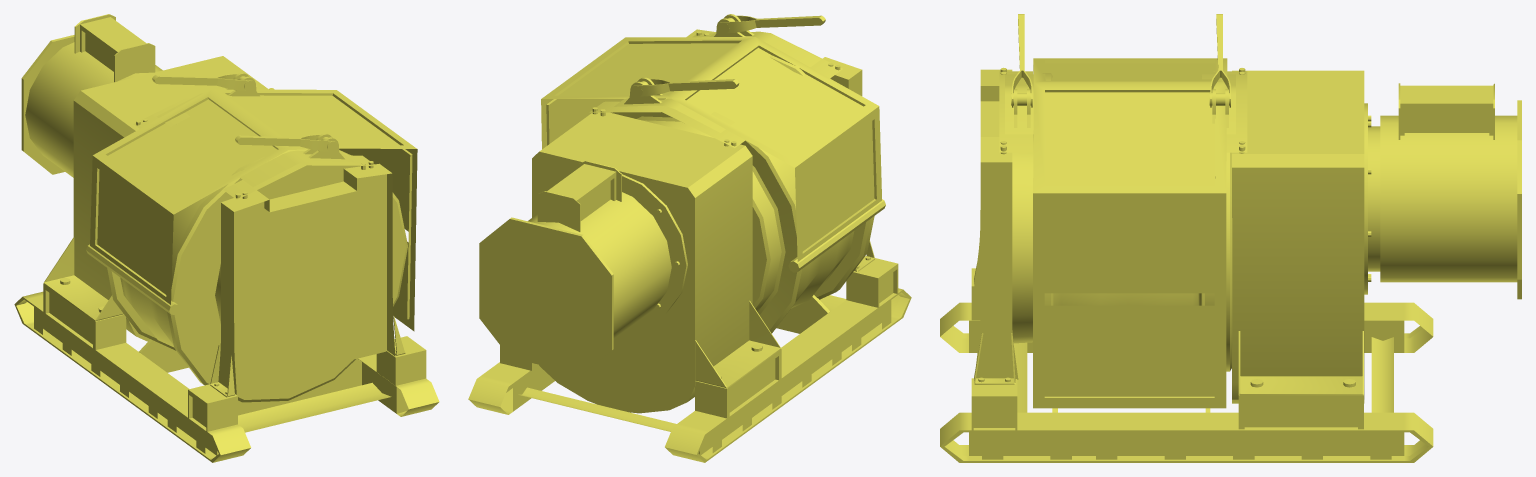
The model's file is Mono Winch.fbx.
3 views of the same model, side by side, from view 1: azimuth 30°, elevation 25°; view 2: azimuth 150°, elevation 25°; view 3: azimuth 270°, elevation 25° (orthographic). The views are drawn at different scales.
Visible parts, largest first — view 1: Cube.038, Cube.001; view 2: Cube.038, Cube.001; view 3: Cube.038, Cube.001.
Boxes of the visible parts, box(x1,y1,x2,y2) form: Cube.038: box(14, 14, 439, 462); Cube.001: box(90, 89, 417, 331); Cube.038: box(468, 14, 911, 462); Cube.001: box(541, 37, 881, 261); Cube.038: box(940, 14, 1521, 462); Cube.001: box(1033, 58, 1227, 408).
Bounding box in the file's own units: 110 × 124 × 186.
